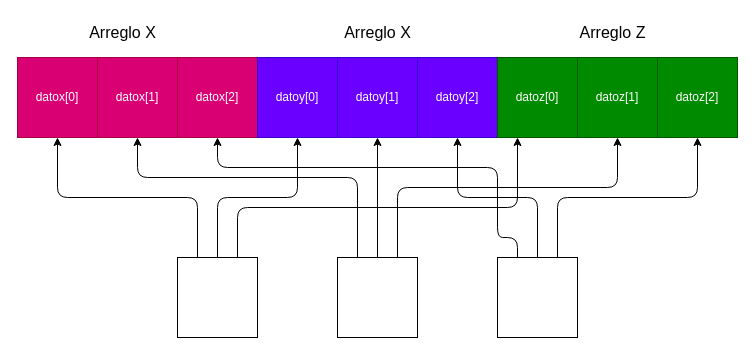
Image size: 755x355. Some labels were removed from this diagram. Each missing label, with the centre of its shape:
"Calculo 0" belongs at (x=217, y=297).
"Calculo 1" belongs at (x=377, y=297).
"Calculo 2" belongs at (x=537, y=297).
